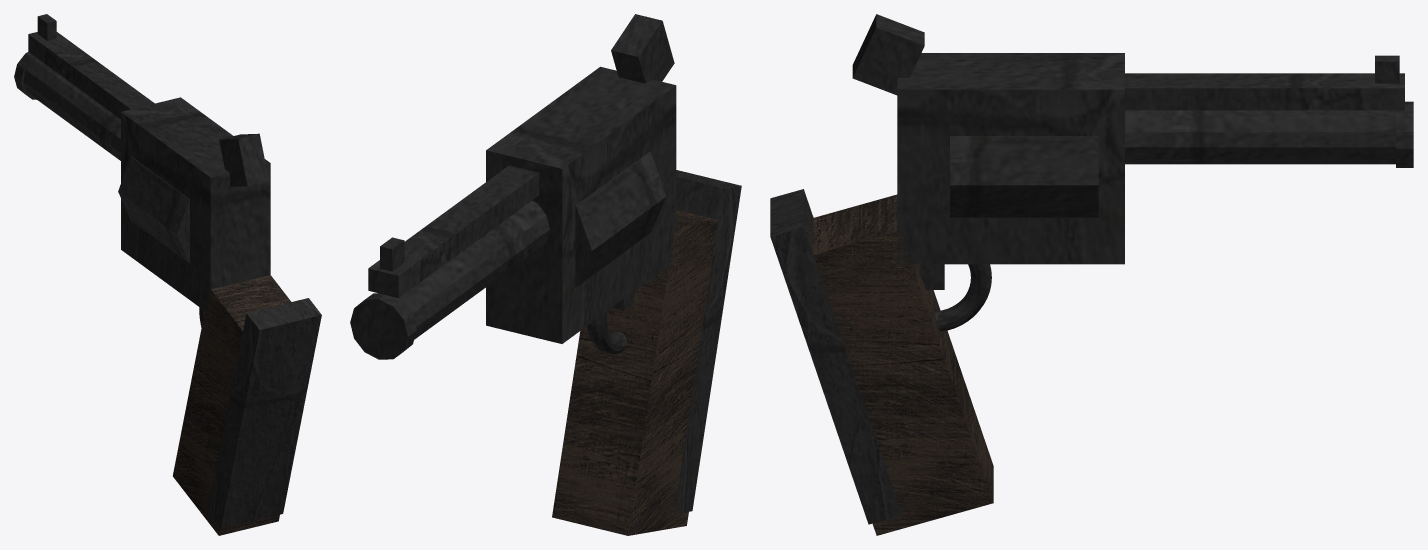
File: wpn_revolver.glb
3 views of the same model, side by side, from view 1: azimuth 30°, elevation 25°; view 2: azimuth 150°, elevation 25°; view 3: azimuth 270°, elevation 25° (orthographic). The views are drawn at different scales.
Parts seen in each view (by area): view 1: wpn_revolver; view 2: wpn_revolver; view 3: wpn_revolver.
Part boxes in pixels (x1,y1,x2,y2): wpn_revolver: [14, 14, 321, 535]; wpn_revolver: [350, 14, 741, 535]; wpn_revolver: [770, 14, 1413, 535].
Bounding box in the file's own units: 0.072 × 0.3133 × 0.3676.
Materials: 3 (3 with a texture image).
